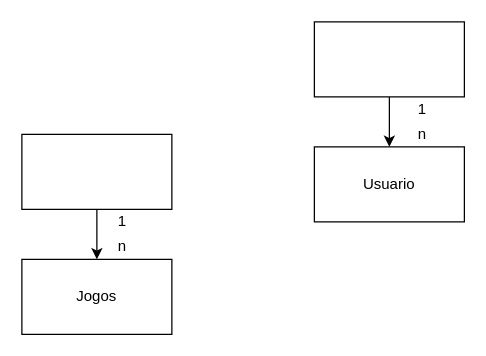
This 486x356 diagram has some shape labels left out. The shapes that lost their labels are listed below. From the top down, each one's centre as x and y in pixels, then its label:
At (388,59): "TipoUsuario".
At (96,171): "Estudios".
